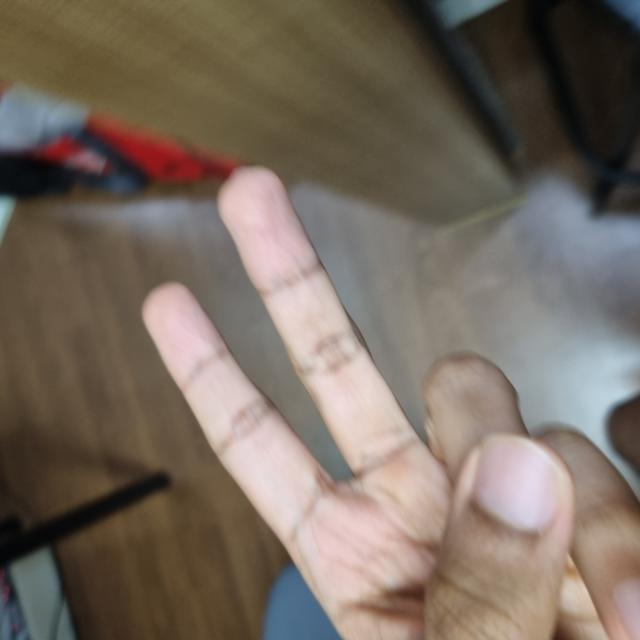Scissors: (0, 146, 472, 640)
